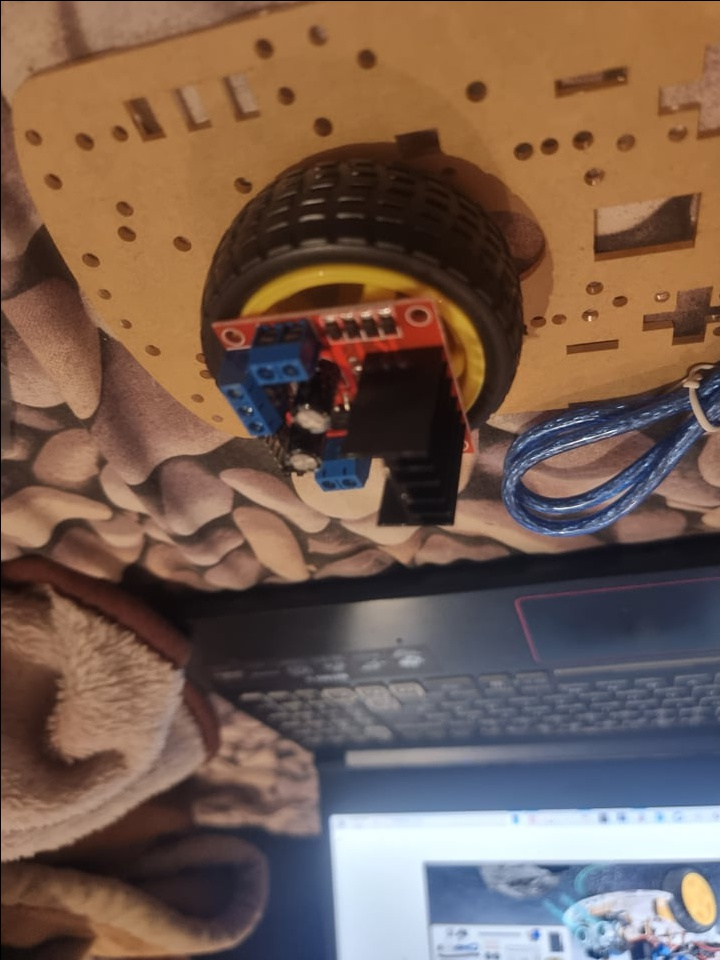MOTOR: (212, 295, 479, 528)
